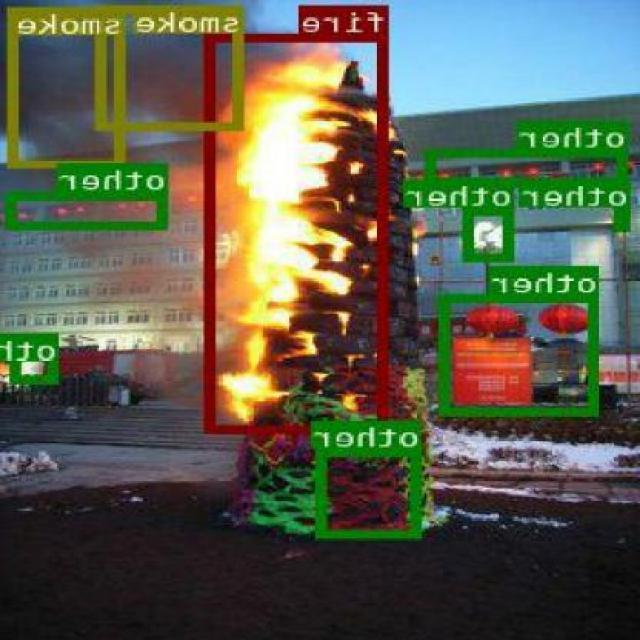Fire: (207, 33, 390, 432)
Smoke: (10, 6, 127, 166), (98, 3, 247, 128)
